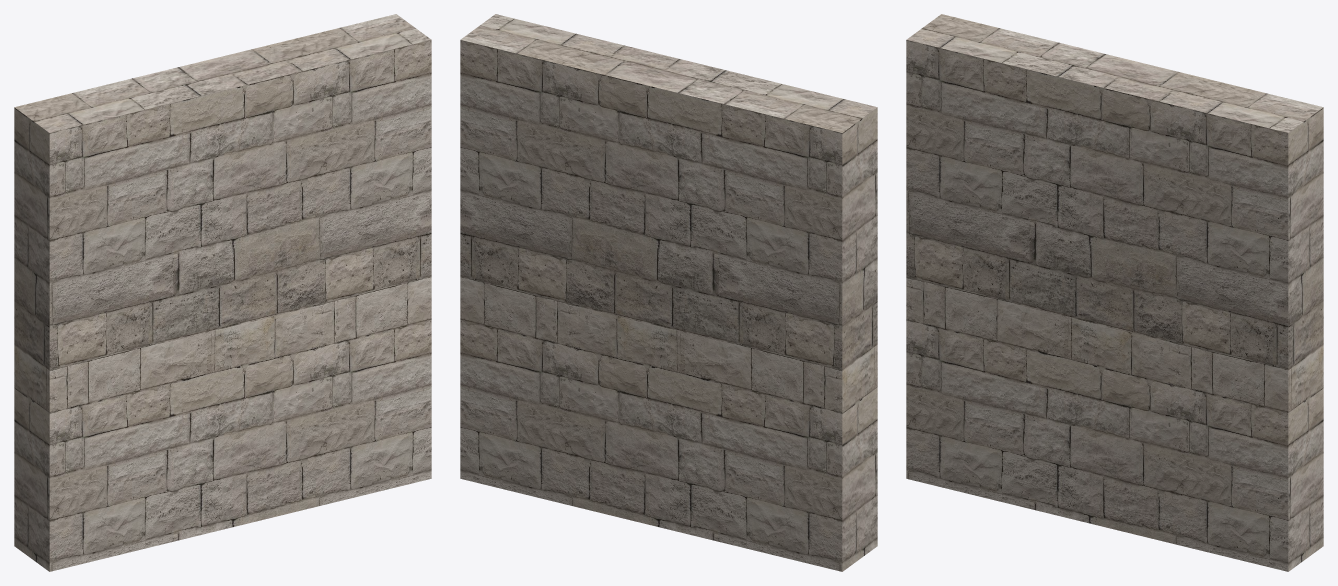
The model's file is hall_gable.glb.
3 views of the same model, side by side, from view 1: azimuth 30°, elevation 25°; view 2: azimuth 150°, elevation 25°; view 3: azimuth 330°, elevation 25° (orthographic).
Parts seen in each view (by area): view 1: Far gable; view 2: Far gable; view 3: Far gable.
Part boxes in pixels (x1,y1,x2,y2): Far gable: [14, 14, 431, 571]; Far gable: [460, 14, 877, 571]; Far gable: [906, 14, 1323, 571].
Bounding box in the file's own units: 4 × 4.39 × 0.64.
Materials: 1 (1 with a texture image).
